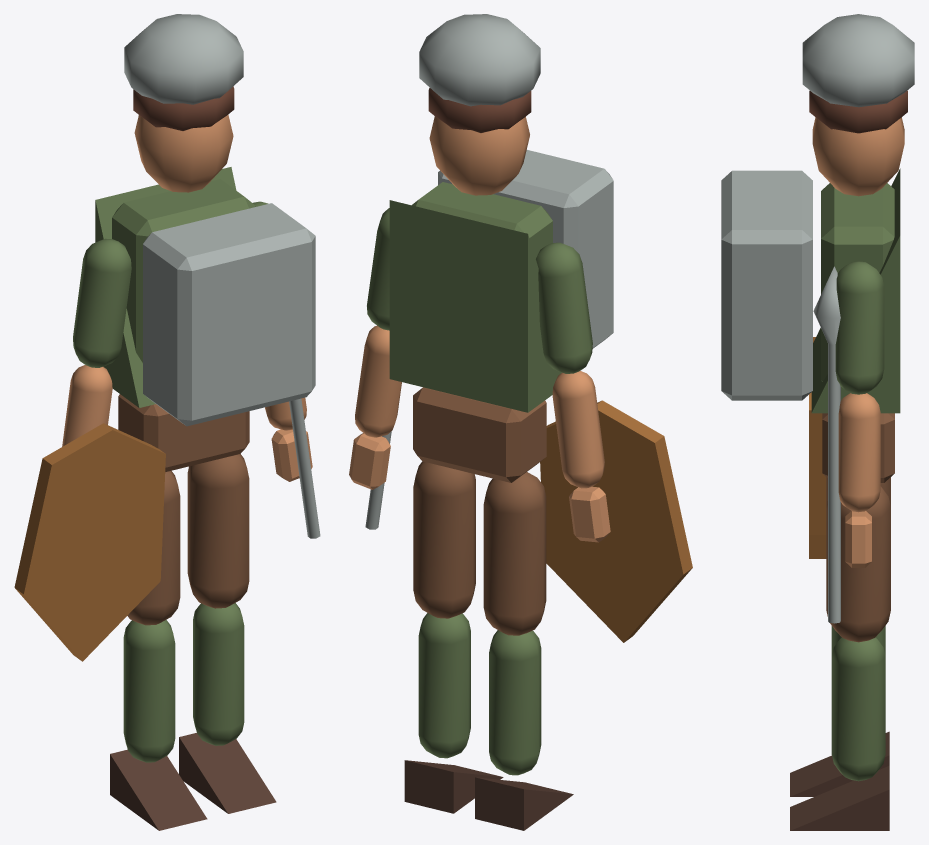
Rendered from adventurer.rustic.glb.
3 renders of one model, left to right at view 1: azimuth 30°, elevation 25°; view 2: azimuth 150°, elevation 25°; view 3: azimuth 270°, elevation 25°, orthographic.
Parts seen in each view (by area): view 1: accessory.body, accessory.off-hand, thigh.right, accessory.head, shin.left, shin.right, torso, upper-arm.left, pelvis, head, foot.left, foot.right (+7 smaller); view 2: tunic, accessory.off-hand, accessory.body, pelvis, thigh.left, thigh.right, accessory.head, shin.left, shin.right, upper-arm.left, head, forearm.left (+9 smaller); view 3: accessory.body, accessory.head, shin.right, torso, upper-arm.right, thigh.right, head, forearm.right, tunic, accessory.main-hand, foot.right, hair (+4 smaller).
Part boxes in pixels (x1,y1,x2,y2): accessory.body: (143,203,315,426); accessory.off-hand: (14,423,165,661); thigh.right: (187,454,249,608); accessory.head: (124,14,243,104); shin.left: (123,619,175,762); shin.right: (193,603,244,745); torso: (112,179,255,362); upper-arm.left: (73,238,131,367); pelvis: (118,394,249,471); head: (134,114,233,192); foot.left: (110,749,207,830); foot.right: (179,733,276,813); tunic: (389,200,561,412); accessory.off-hand: (540,400,692,642); accessory.body: (438,150,613,348); pelvis: (413,387,546,482); thigh.left: (483,472,546,635); thigh.right: (413,461,475,618); accessory.head: (419,14,540,106); shin.left: (489,630,541,775); shin.right: (418,613,470,758); upper-arm.left: (536,242,592,373); head: (429,116,529,195); forearm.left: (552,371,604,488); accessory.body: (721,170,812,400); accessory.head: (802,14,914,107); shin.right: (831,637,885,781); torso: (821,183,894,381); upper-arm.right: (835,261,884,394); thigh.right: (826,486,890,642); head: (812,117,904,196); forearm.right: (838,393,880,512); tunic: (811,168,900,413); accessory.main-hand: (813,266,840,623); foot.right: (790,765,889,830); hair: (809,90,907,133).
Size of the model in its own units: 1.35 by 3.2 by 0.718.
